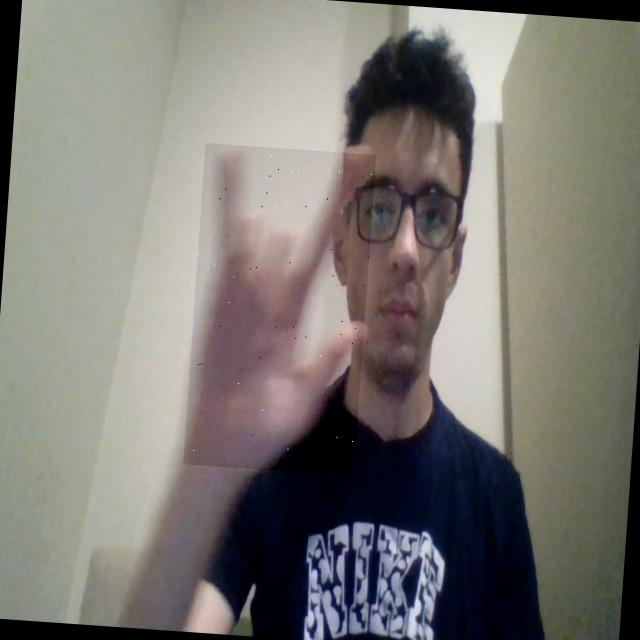iloveyou: (182, 142, 376, 476)
